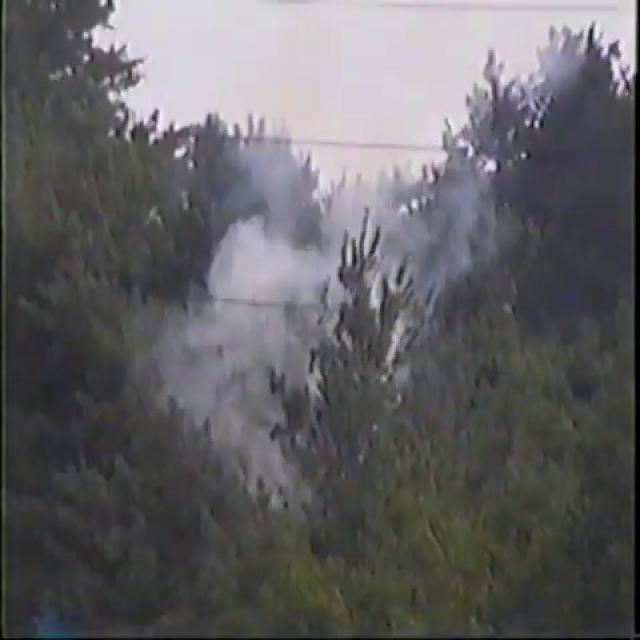Smoke: (152, 58, 468, 510)
